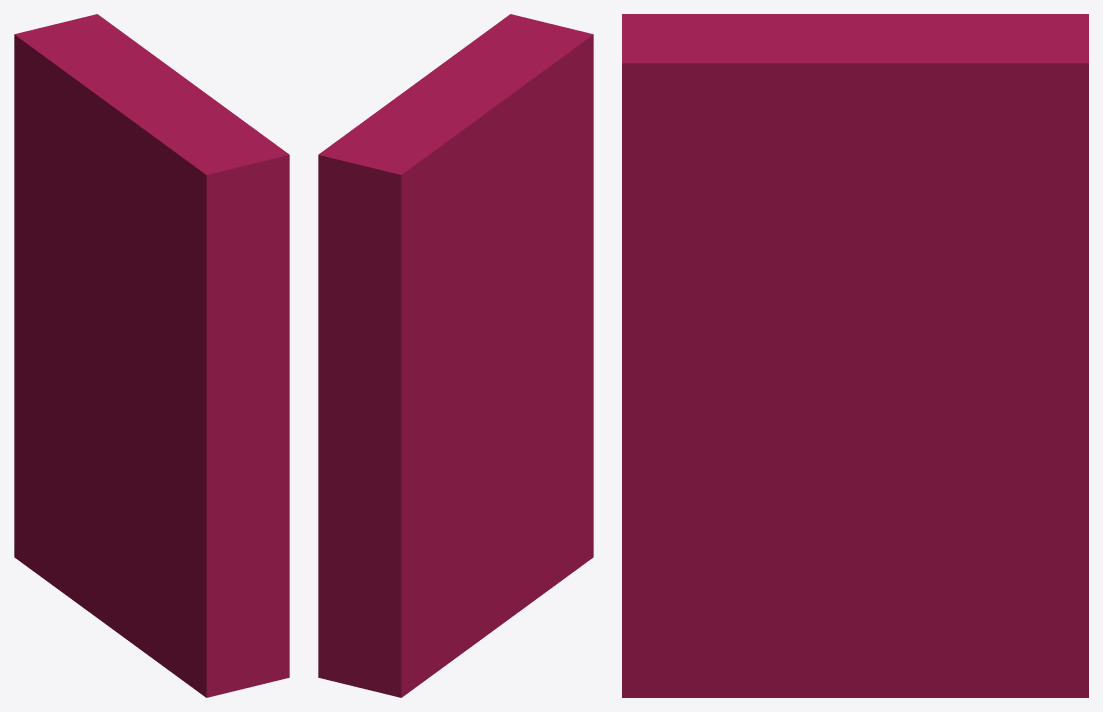
Rendered from Boss_Wall_01.fbx.
The picture shows the model from 3 angles, left to right: view 1: azimuth 30°, elevation 25°; view 2: azimuth 150°, elevation 25°; view 3: azimuth 270°, elevation 25°; orthographic projection. The views are drawn at different scales.
Visible parts, largest first — view 1: Boss_Wall_01; view 2: Boss_Wall_01; view 3: Boss_Wall_01.
Boxes of the visible parts, <box> form: Boss_Wall_01: <box>14,14,289,697</box>; Boss_Wall_01: <box>318,14,593,697</box>; Boss_Wall_01: <box>622,14,1088,697</box>.
Bounding box in the file's own units: 200 × 1200 × 800.
